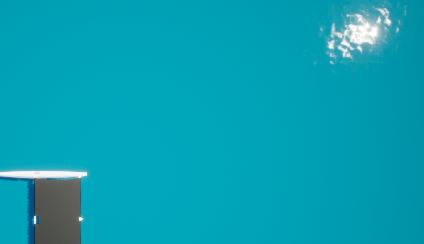boat: (0, 164, 94, 244)
drone: (36, 178, 80, 244)
land_base: (314, 0, 421, 77)
